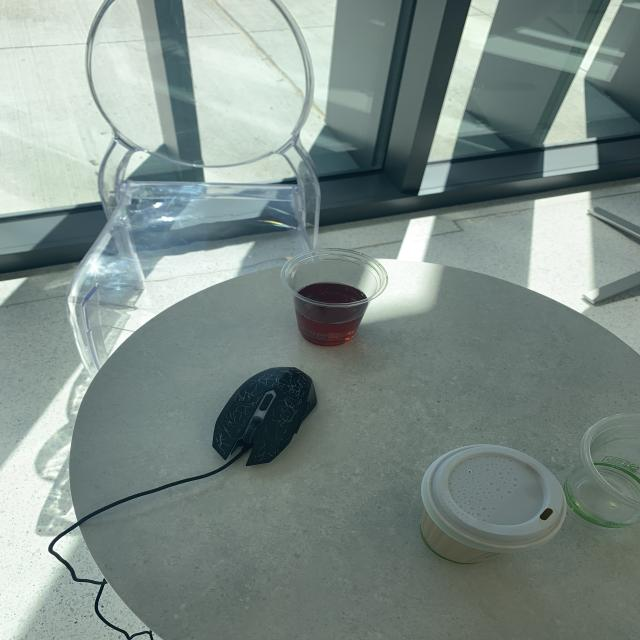Mouse: (206, 362, 326, 471)
